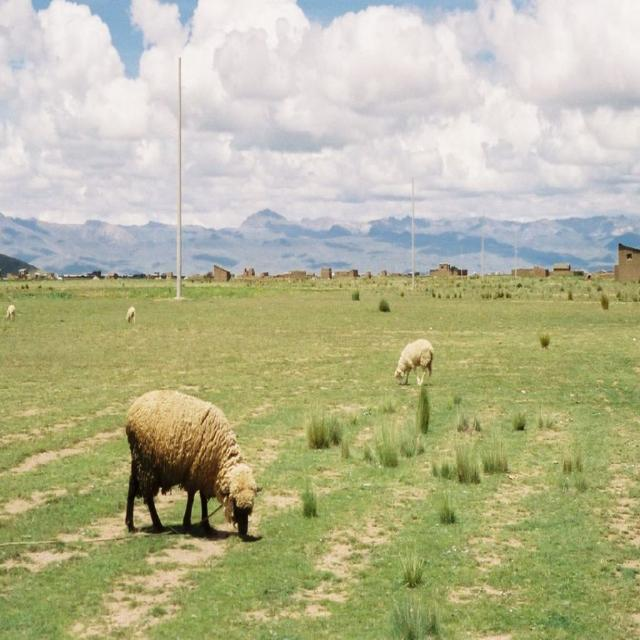Sheep: (124, 388, 264, 540), (394, 337, 432, 392), (5, 301, 16, 320), (128, 305, 134, 322)
